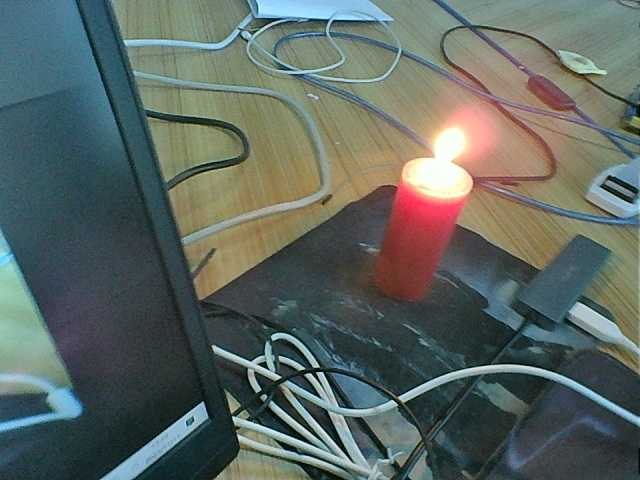candle: (396, 183, 451, 303)
fire: (425, 125, 469, 185)
